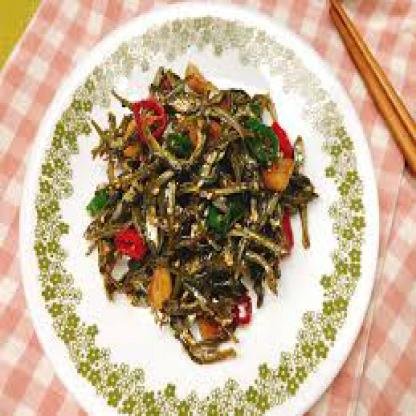stir-fried anchovies: (100, 77, 290, 343)
